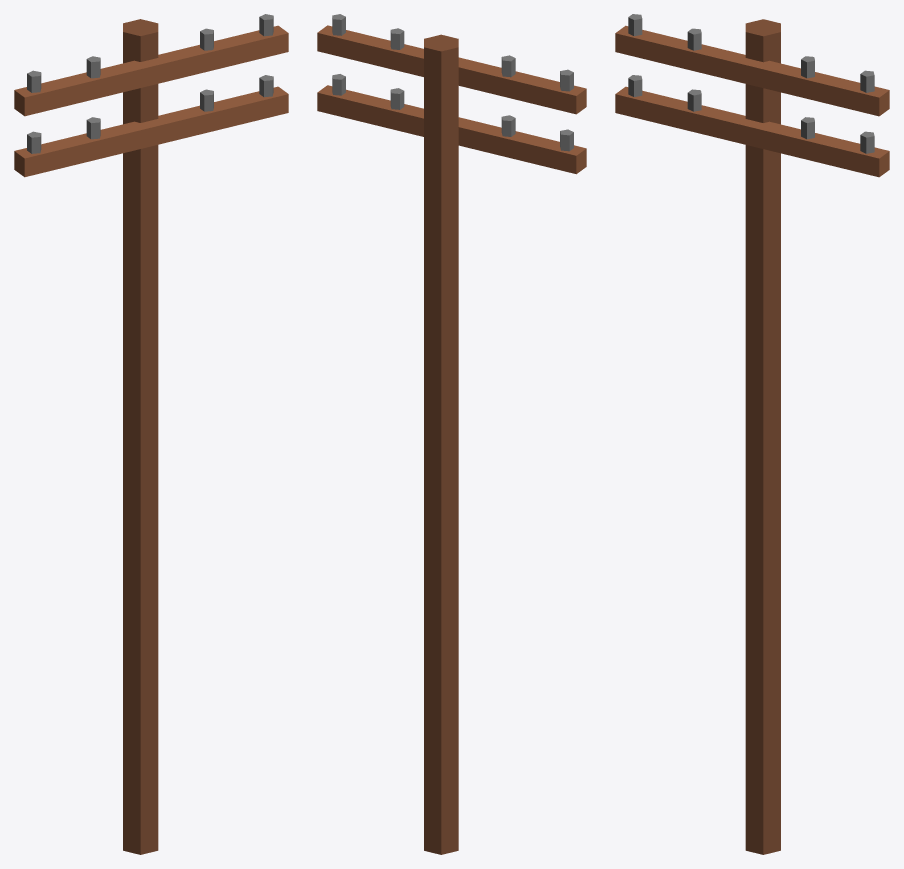
Rendered from west_tree06.FBX.
3 views of the same model, side by side, from view 1: azimuth 30°, elevation 25°; view 2: azimuth 150°, elevation 25°; view 3: azimuth 330°, elevation 25° (orthographic).
Parts seen in each view (by area): view 1: west_tree06; view 2: west_tree06; view 3: west_tree06.
Boxes of the visible parts, x1,y1,x2,y2 form: west_tree06: (14, 14, 288, 854); west_tree06: (317, 14, 586, 854); west_tree06: (615, 14, 889, 854).
Bounding box in the file's own units: 1235 × 3660 × 202.
